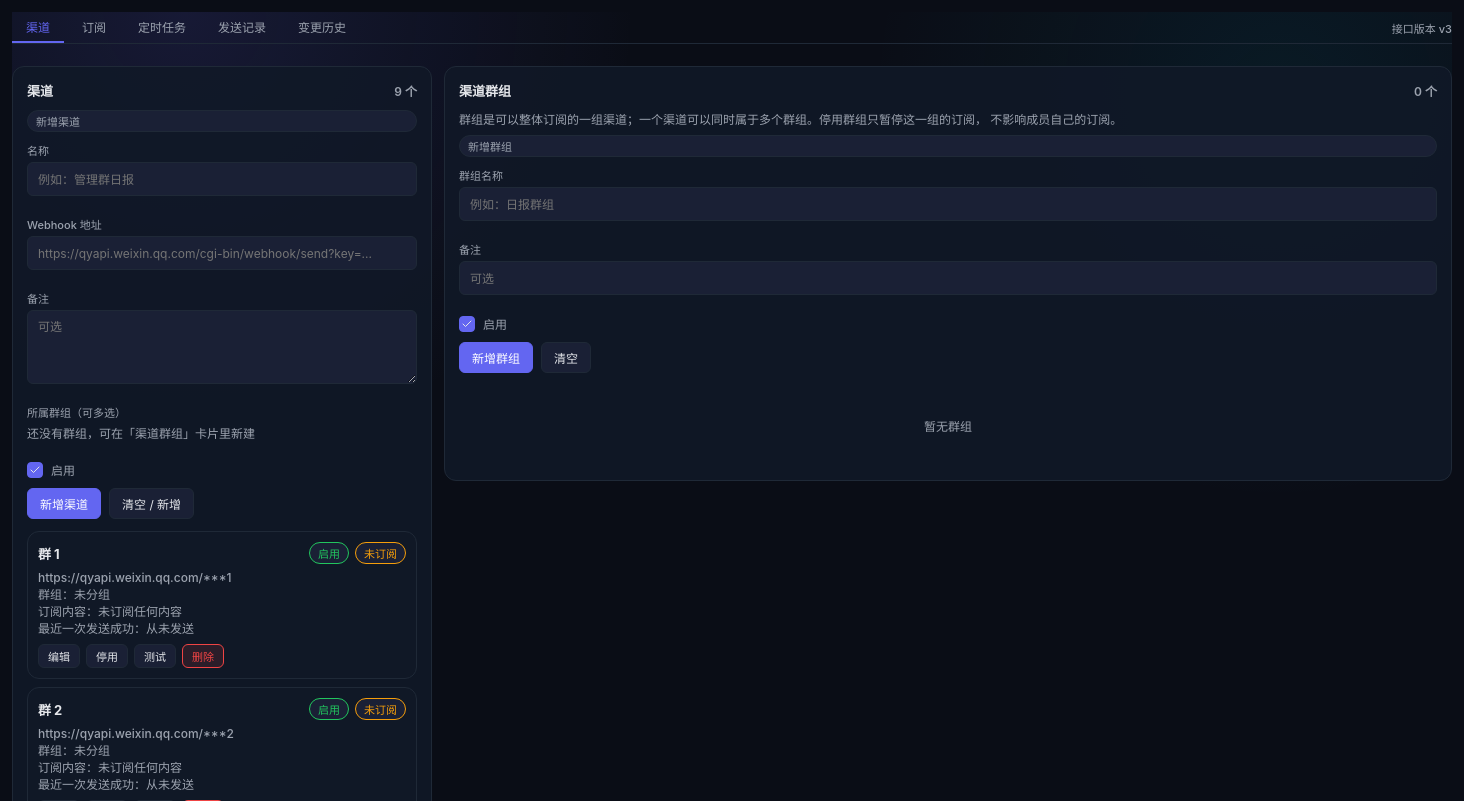
Test case: 多选列表（渠道 > 8）的勾选与保存反馈 › 取消勾选发出的是带真实渠道 id 的停用请求
Click the button "订阅" at (94, 28), box [68,12,120,43]
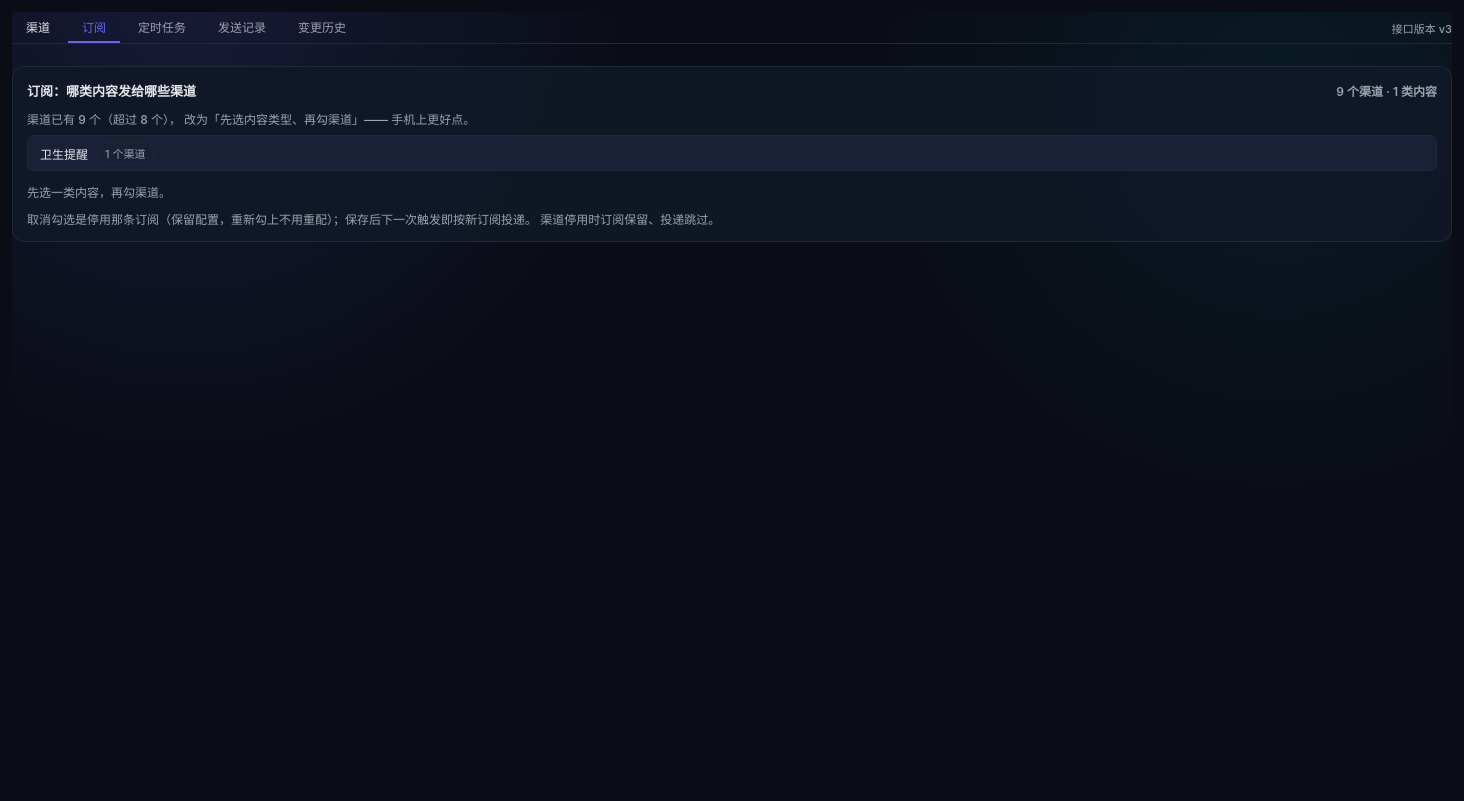
Click the button with class "wp-pick-row" at (64, 154), box [27,135,1437,171]
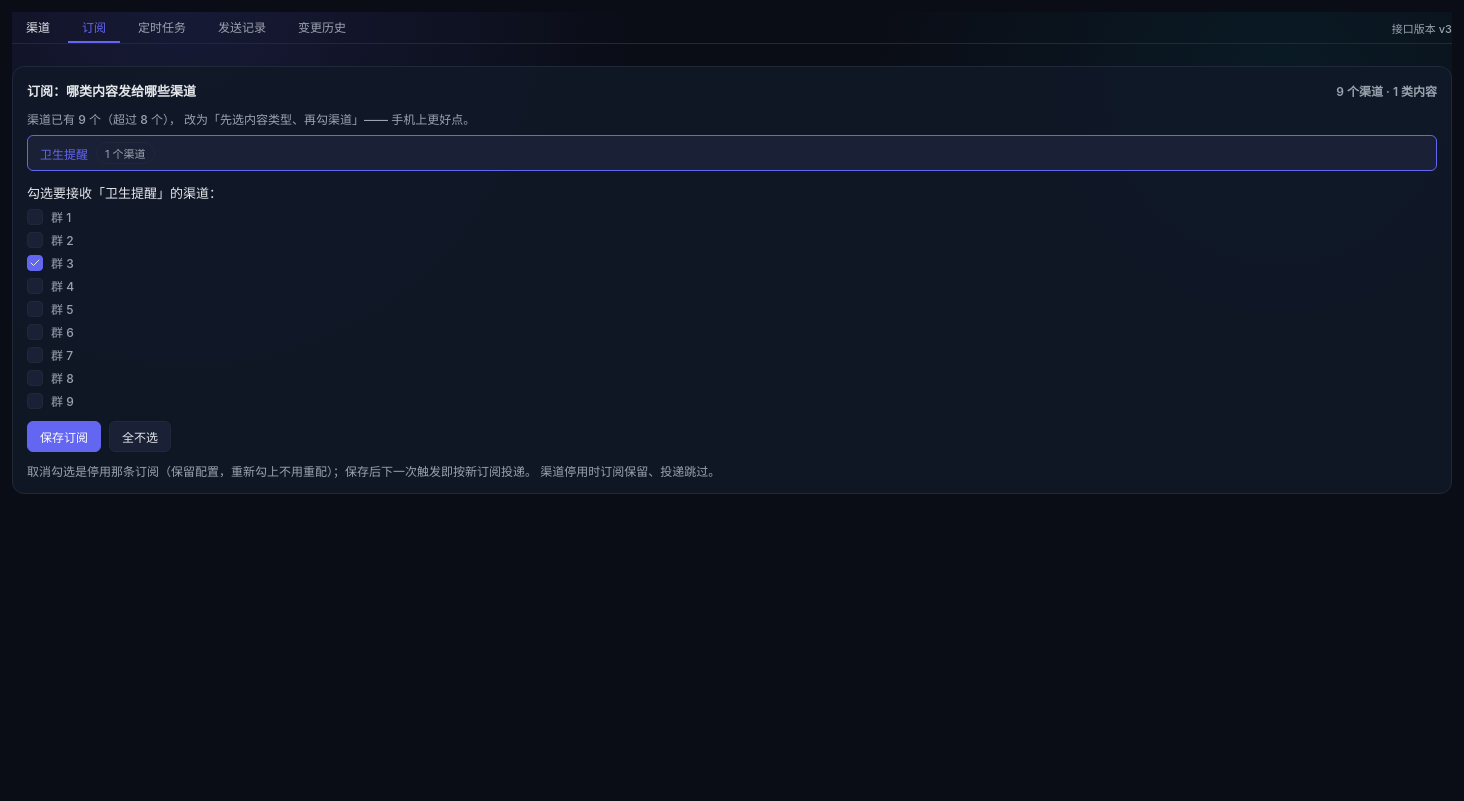
Click the checkbox next to "群 3" at (35, 262), box [27,254,43,270]
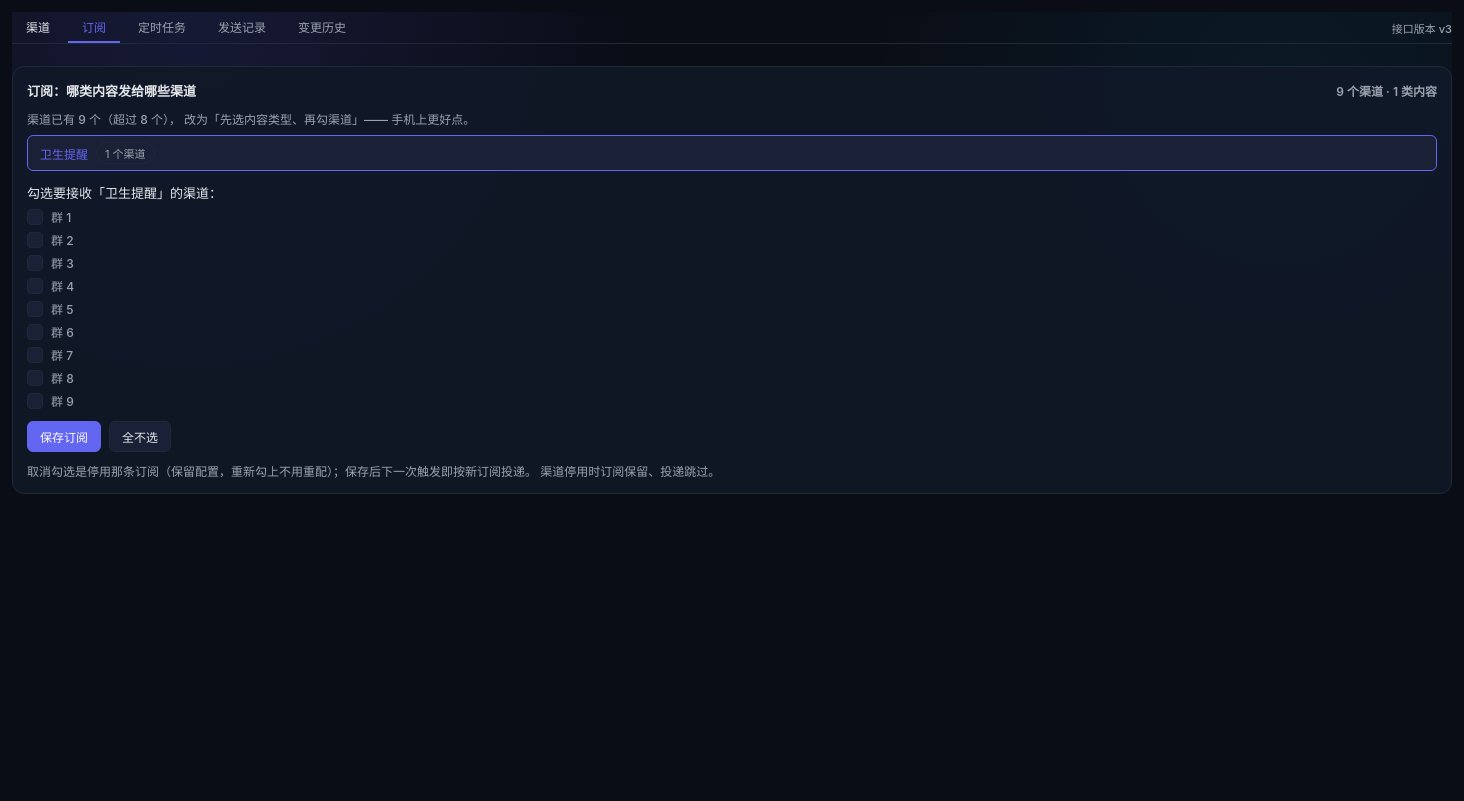
Now the button "保存订阅" is shown
Click the button "保存订阅" at (64, 436), box [27,421,101,452]
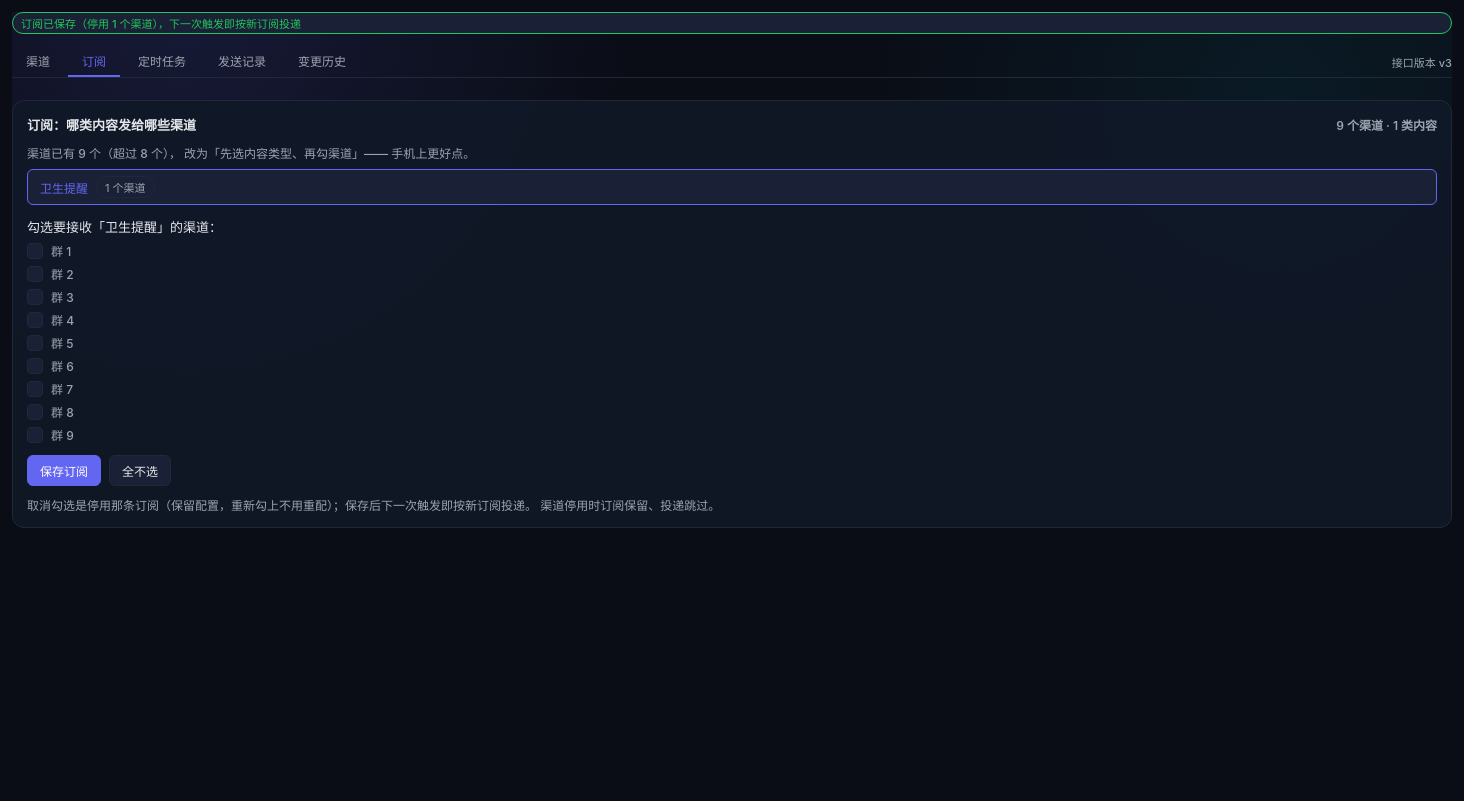
Now the text "停用 1 个渠道" is shown, box [21,17,301,31]
